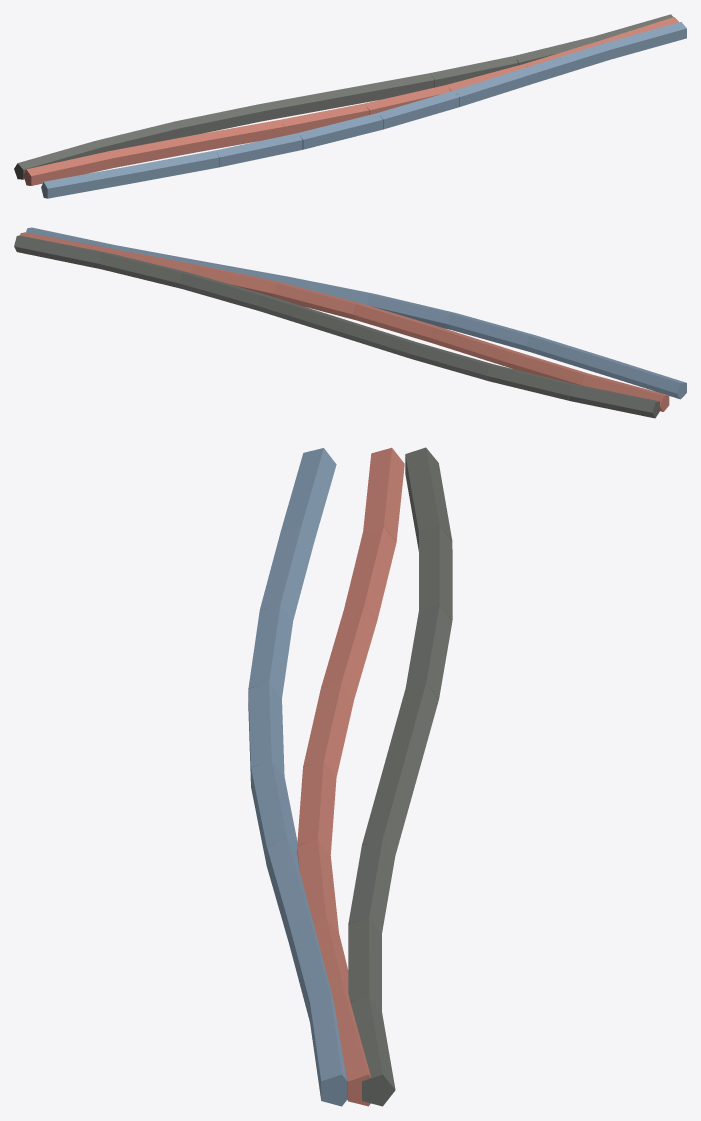
The model's file is lab_cable_run.glb.
The picture shows the model from 3 angles, top to bottom: view 1: azimuth 30°, elevation 25°; view 2: azimuth 150°, elevation 25°; view 3: azimuth 270°, elevation 25°; orthographic projection. The views are drawn at different scales.
Parts seen in each view (by area): view 1: lab_cable_run; view 2: lab_cable_run; view 3: lab_cable_run.
Part boxes in pixels (x1,y1,x2,y2): lab_cable_run: (14, 14, 686, 198); lab_cable_run: (14, 227, 686, 418); lab_cable_run: (248, 447, 452, 1106).
Size of the model in its own units: 2.41 by 0.0571 by 0.3302.
